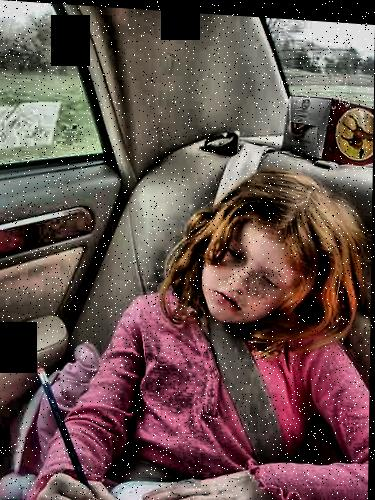seatbelt: (178, 107, 323, 471)
